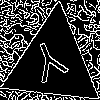Y: (28, 37, 73, 93)
